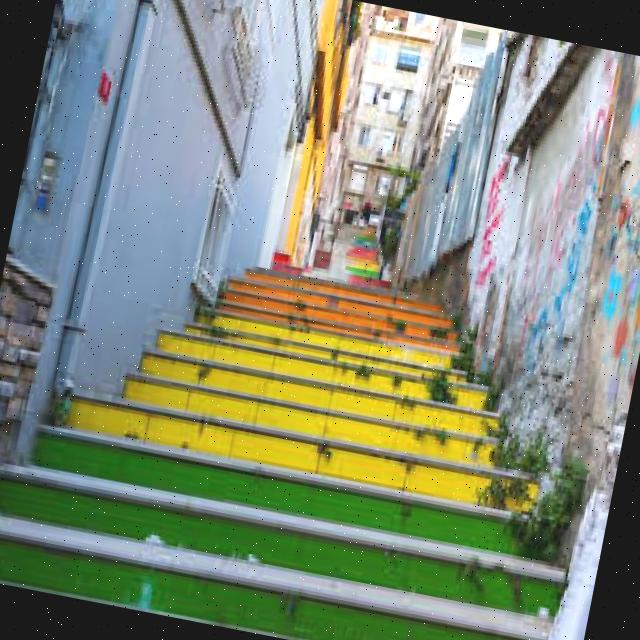stairs: (0, 211, 624, 640)
